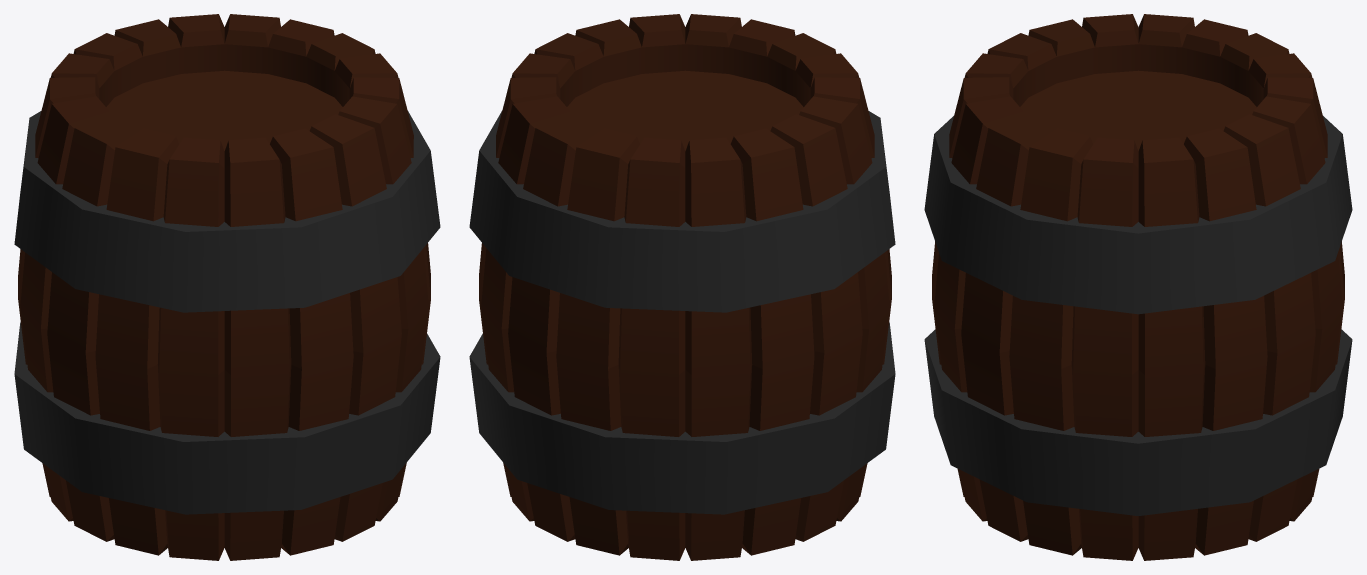
The model's file is Barrel.FBX.
3 renders of one model, left to right at view 1: azimuth 30°, elevation 25°; view 2: azimuth 150°, elevation 25°; view 3: azimuth 270°, elevation 25°, orthographic.
Parts seen in each view (by area): view 1: Barrel, Metal Band, Metal Band001; view 2: Barrel, Metal Band, Metal Band001; view 3: Barrel, Metal Band, Metal Band001.
Boxes of the visible parts, x1=… form: Barrel: x1=18, y1=14, x2=430, y2=560; Metal Band: x1=14, y1=111, x2=440, y2=312; Metal Band001: x1=14, y1=322, x2=440, y2=514; Barrel: x1=479, y1=14, x2=891, y2=560; Metal Band: x1=469, y1=111, x2=895, y2=312; Metal Band001: x1=469, y1=322, x2=895, y2=514; Barrel: x1=932, y1=14, x2=1344, y2=560; Metal Band: x1=924, y1=116, x2=1352, y2=314; Metal Band001: x1=924, y1=329, x2=1352, y2=515.
Bounding box in the file's own units: 50.75 × 53.38 × 51.15.
